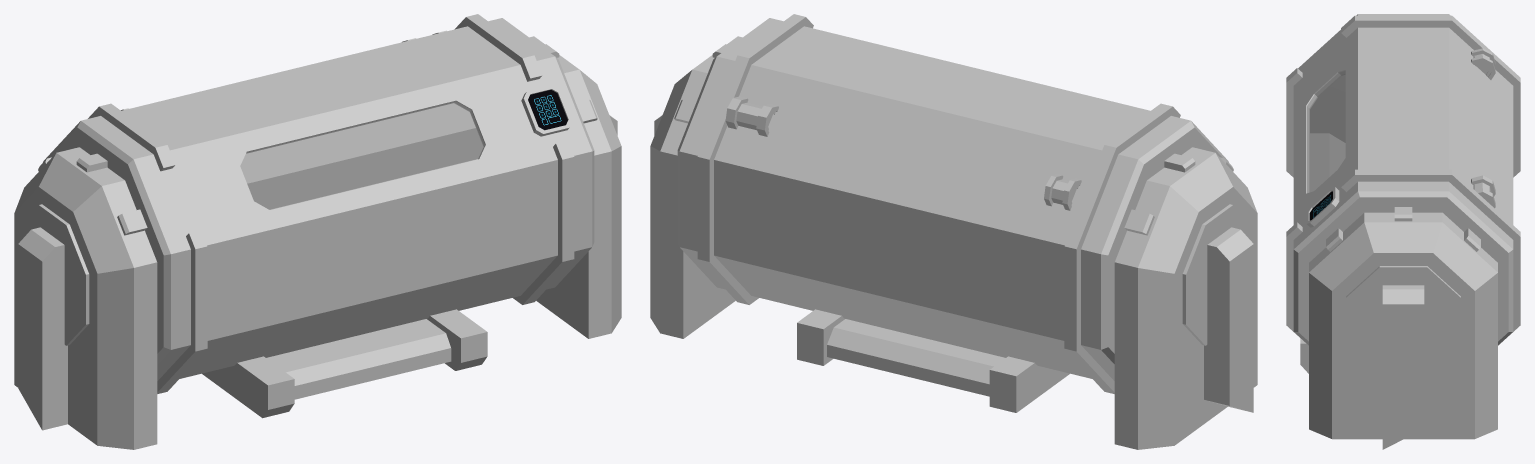
The model's file is SM_Container_Loot_1.fbx.
The picture shows the model from 3 angles, left to right: view 1: azimuth 30°, elevation 25°; view 2: azimuth 150°, elevation 25°; view 3: azimuth 270°, elevation 25°; orthographic projection. The views are drawn at different scales.
Visible parts, largest first — view 1: SM_Container_Loot_1, SM_Container_Loot_1_Top; view 2: SM_Container_Loot_1, SM_Container_Loot_1_Top; view 3: SM_Container_Loot_1, SM_Container_Loot_1_Top.
Boxes of the visible parts, x1=… form: SM_Container_Loot_1: x1=14, y1=14, x2=621, y2=449; SM_Container_Loot_1_Top: x1=136, y1=31, x2=536, y2=300; SM_Container_Loot_1: x1=650, y1=14, x2=1257, y2=449; SM_Container_Loot_1_Top: x1=758, y1=31, x2=1135, y2=188; SM_Container_Loot_1: x1=1286, y1=14, x2=1520, y2=449; SM_Container_Loot_1_Top: x1=1293, y1=37, x2=1480, y2=224.
Size of the model in its own units: 266 by 120 by 109.
